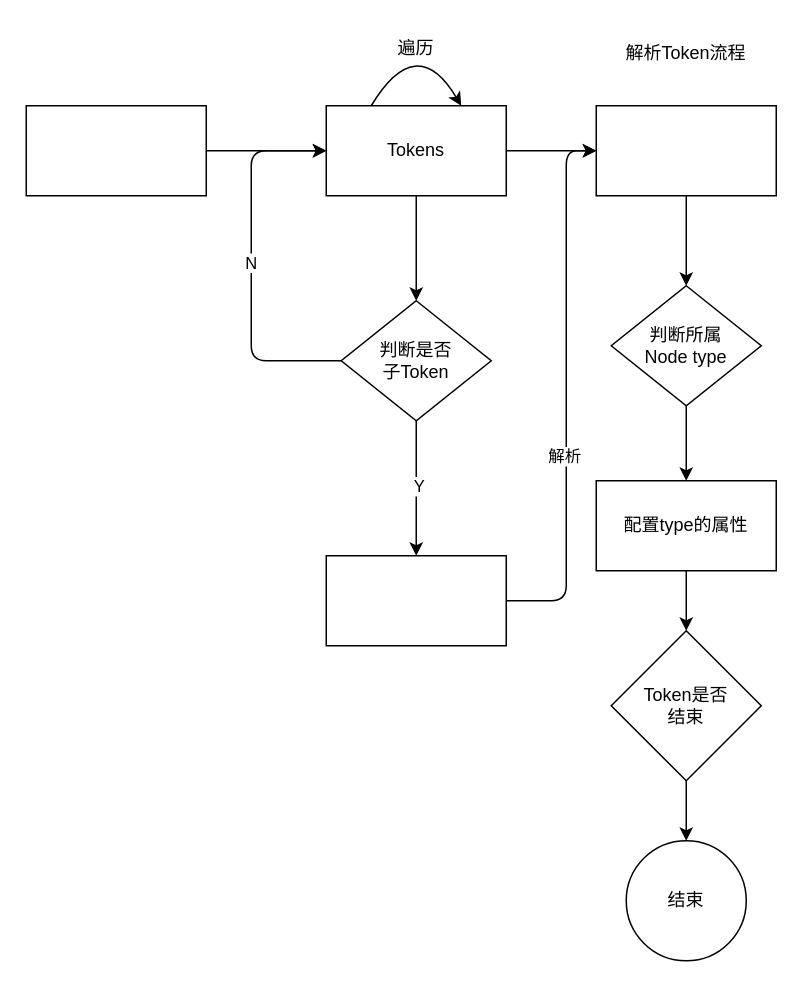
Image size: 803x987. Some labels were removed from this diagram. The shapes that lost their labels are listed below. From the top down, each one's box as (x1, y1, x2, y2) in pixels, then its label:
(25, 104, 206, 196): 生成一个空Node type=Program
(595, 104, 776, 196): 根据Token.keyword
(325, 554, 506, 646): 将其筛入body
